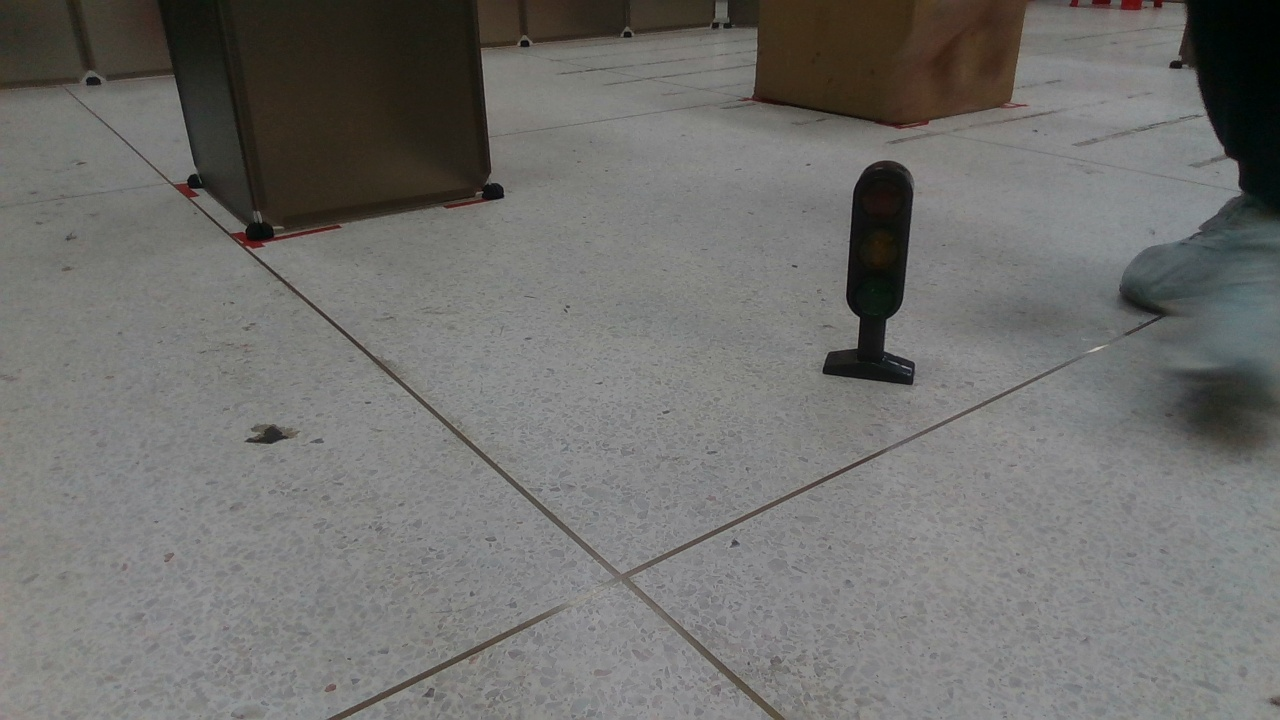Dim traffic light: (822, 157, 922, 386)
